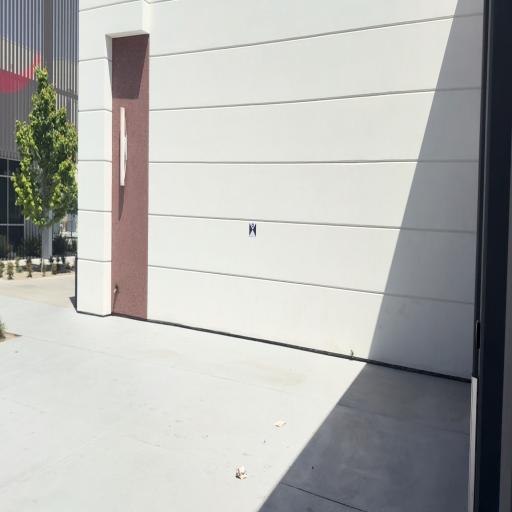target0: (249, 221, 256, 237)
